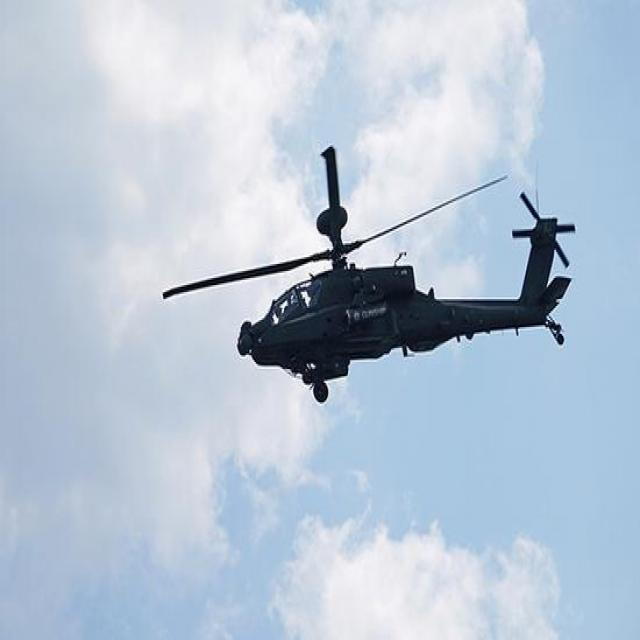MIL_HELO: (133, 138, 590, 403)
